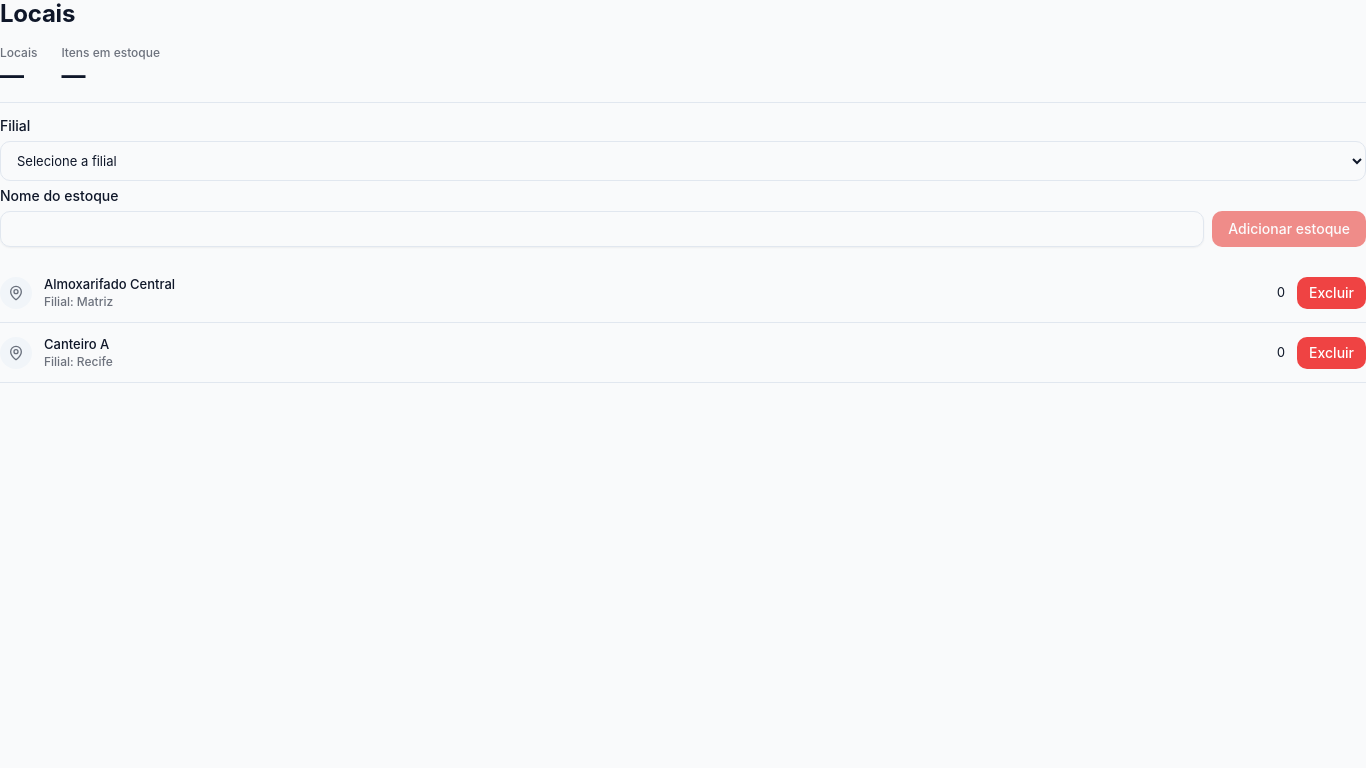
Scenario: LocaisEstoqueSection › cancelar o ConfirmDialog não dispara nenhum DELETE e mantém a lista
Expected: the text "Almoxarifado Central" is shown, [44,276,175,292]
Click the button with aria-label "Excluir estoque Almoxarifado Central": [1332, 293] box [1297,277,1365,309]
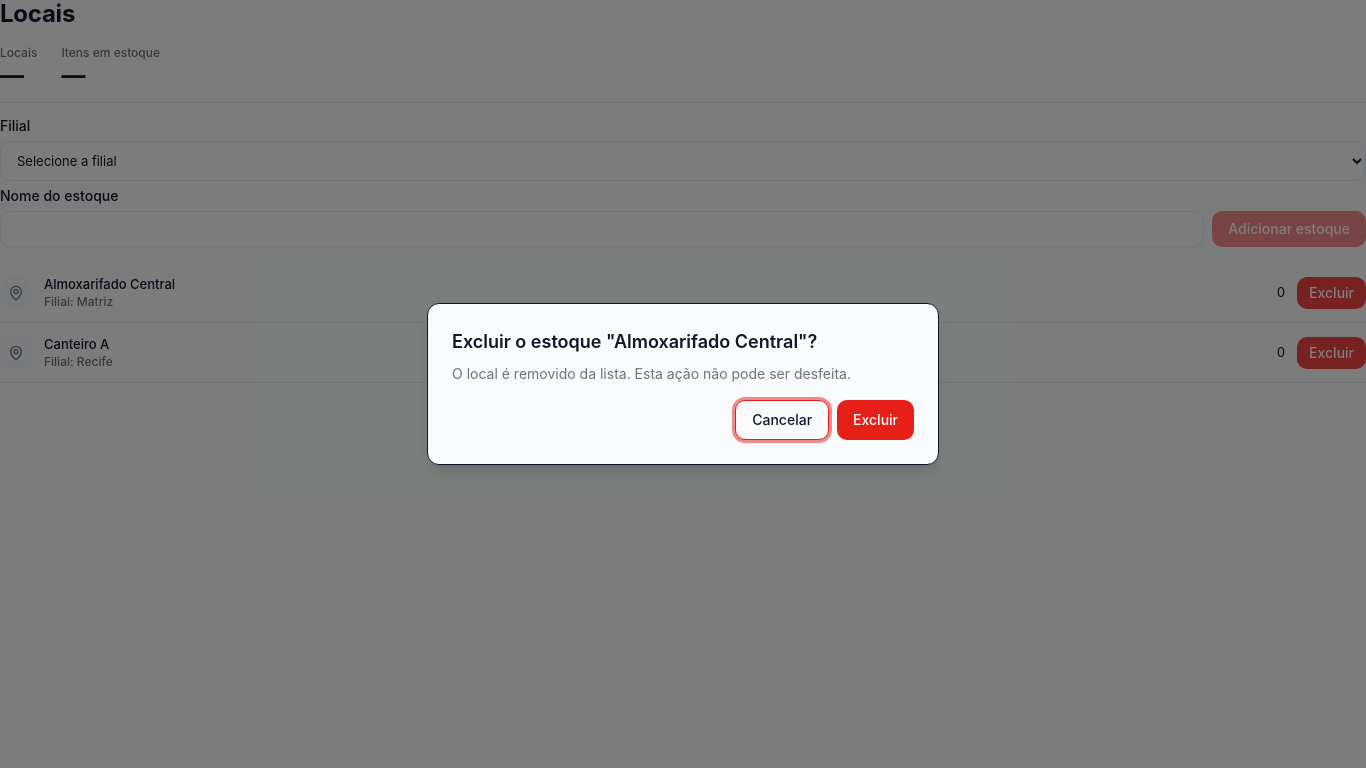
Click the button "Cancelar": [782, 420] box [735,400,829,440]
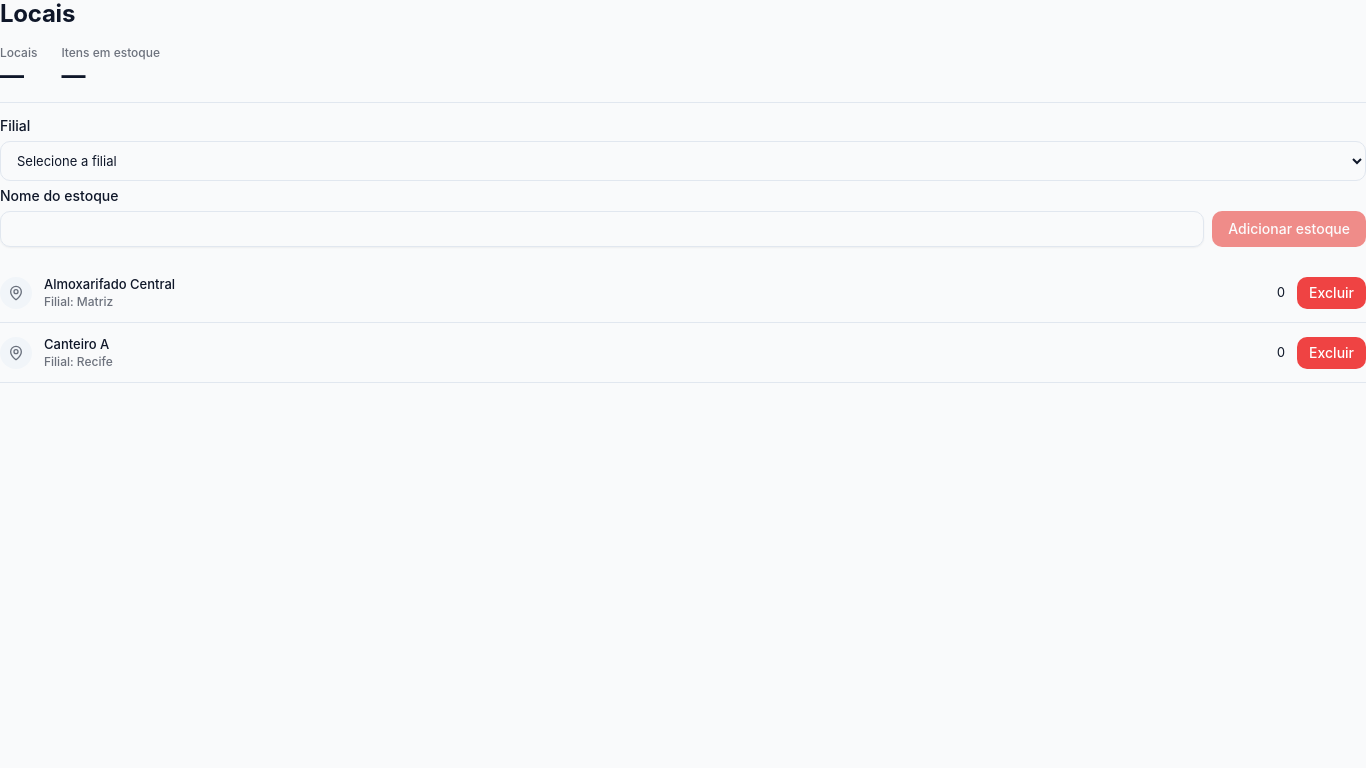
Expected: the text "Almoxarifado Central" is shown, [44,276,175,292]
Result: the dialog is gone
